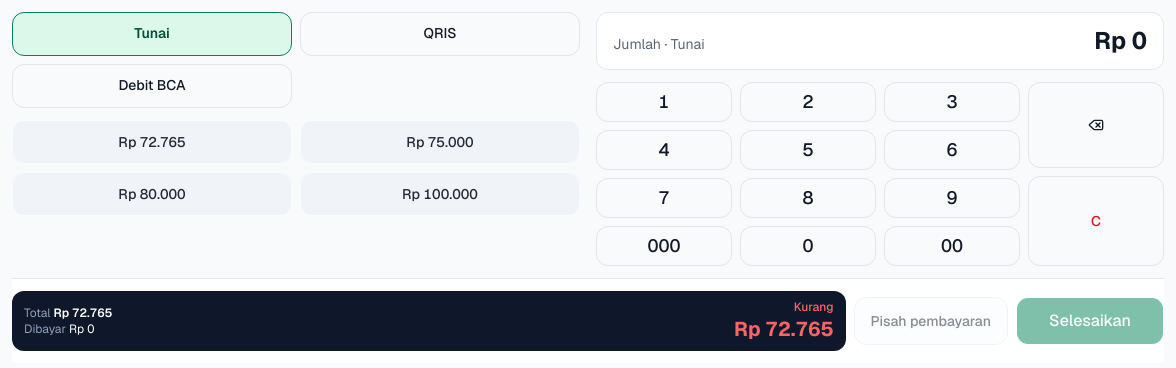
Test case: PaymentPanel › blocks an underpaid order and shows what is missing
Click the button "Rp 72.765" at (152, 142), box 12,120 -> 292,164
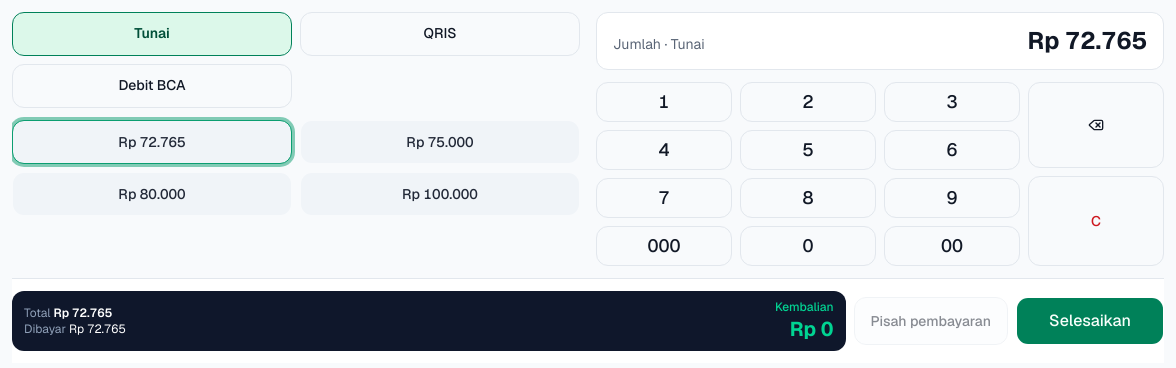
Click the button named "Hapus digit" at (1096, 125), box 1028,82 -> 1164,168
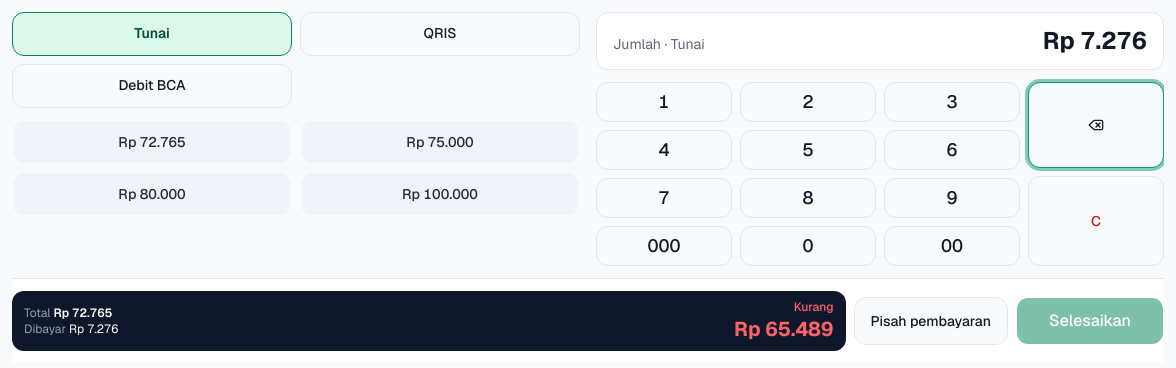
Now the message named "Ringkasan pembayaran" shows "Kurang Rp 65.489", box 12,291 -> 846,351
Now the button "Selesaikan" is disabled, box 1016,297 -> 1164,345
